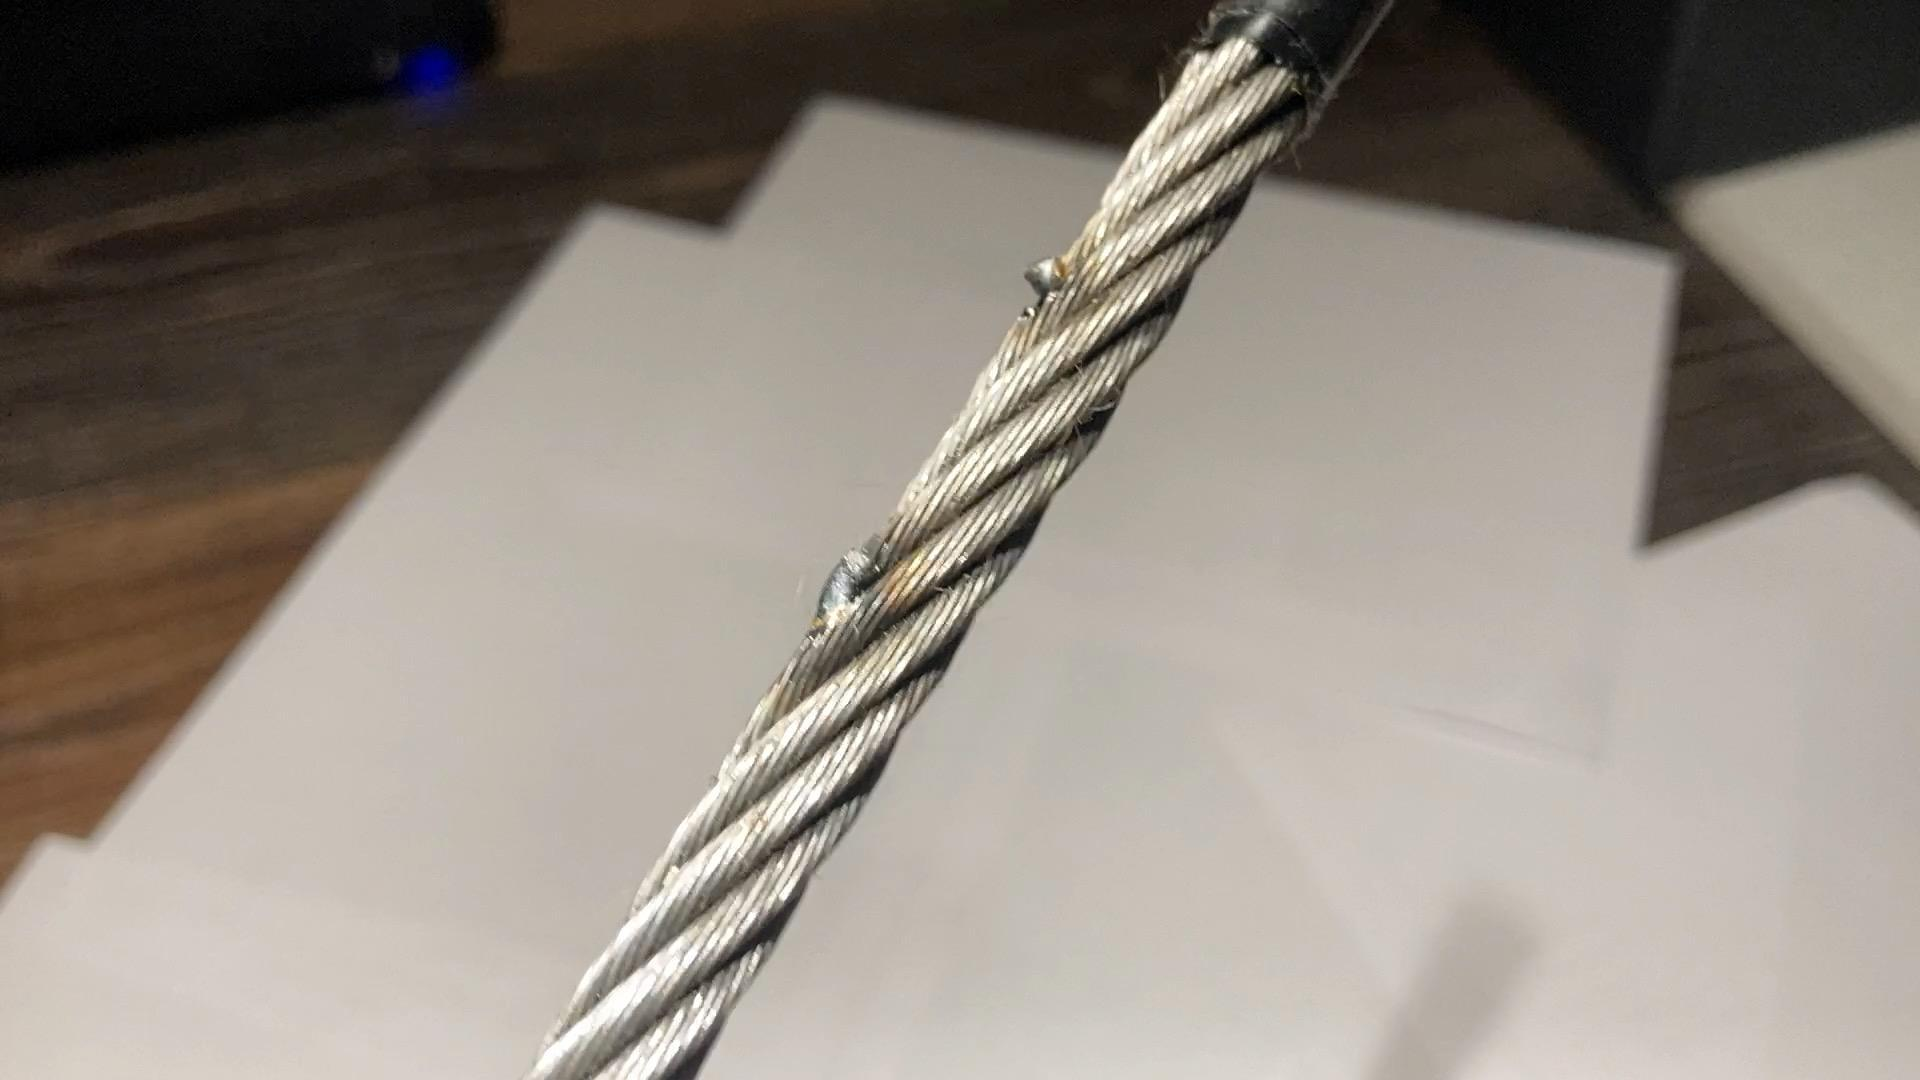thunderbolt: (804, 530, 905, 637)
